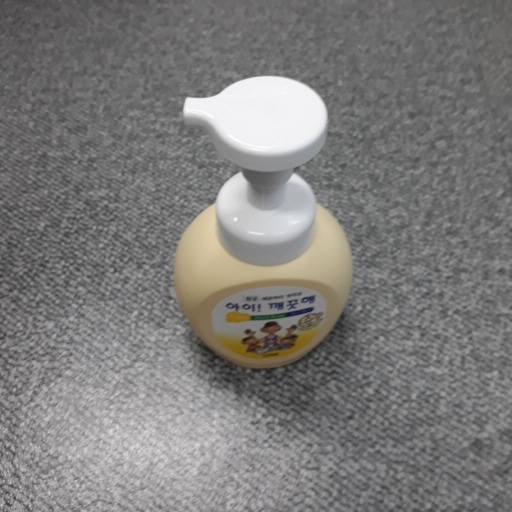Plastic_3: (165, 71, 357, 372)
